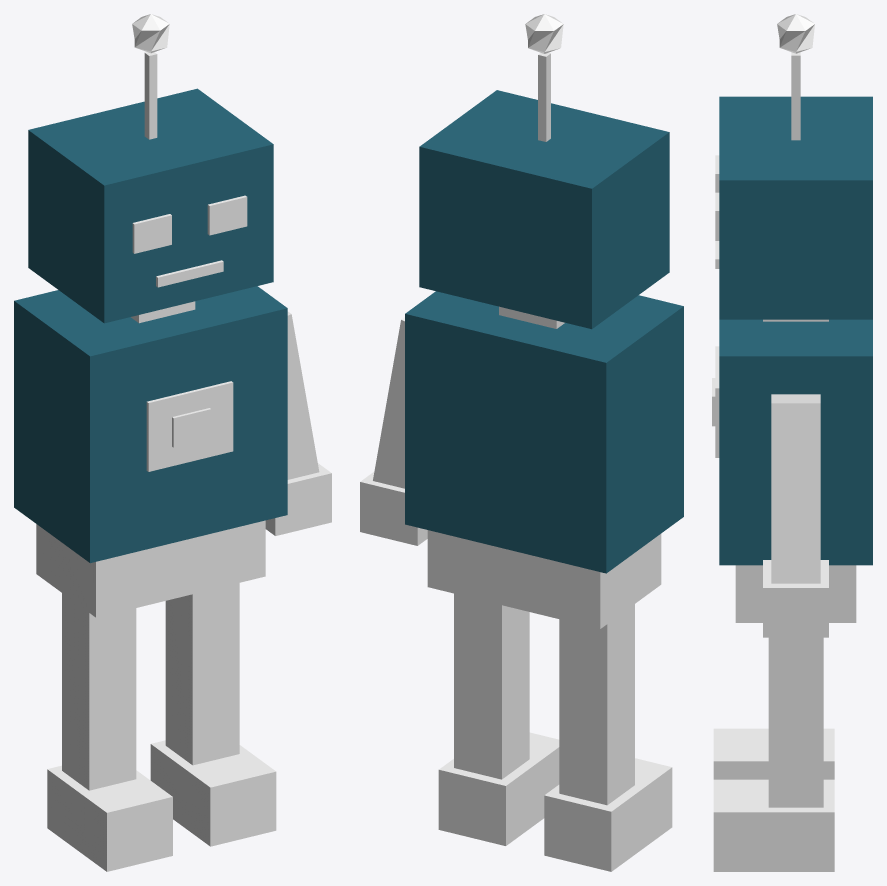
File: decor_robot.obj
3 views of the same model, side by side, from view 1: azimuth 30°, elevation 25°; view 2: azimuth 150°, elevation 25°; view 3: azimuth 270°, elevation 25° (orthographic).
Visible parts, largest first — view 1: Body; view 2: Body; view 3: Body.
Boxes of the visible parts, <box> form: Body: <box>14,14,331,871</box>; Body: <box>360,14,683,871</box>; Body: <box>712,14,872,871</box>.
Bounding box in the file's own units: 0.56 × 1.64 × 0.293.
